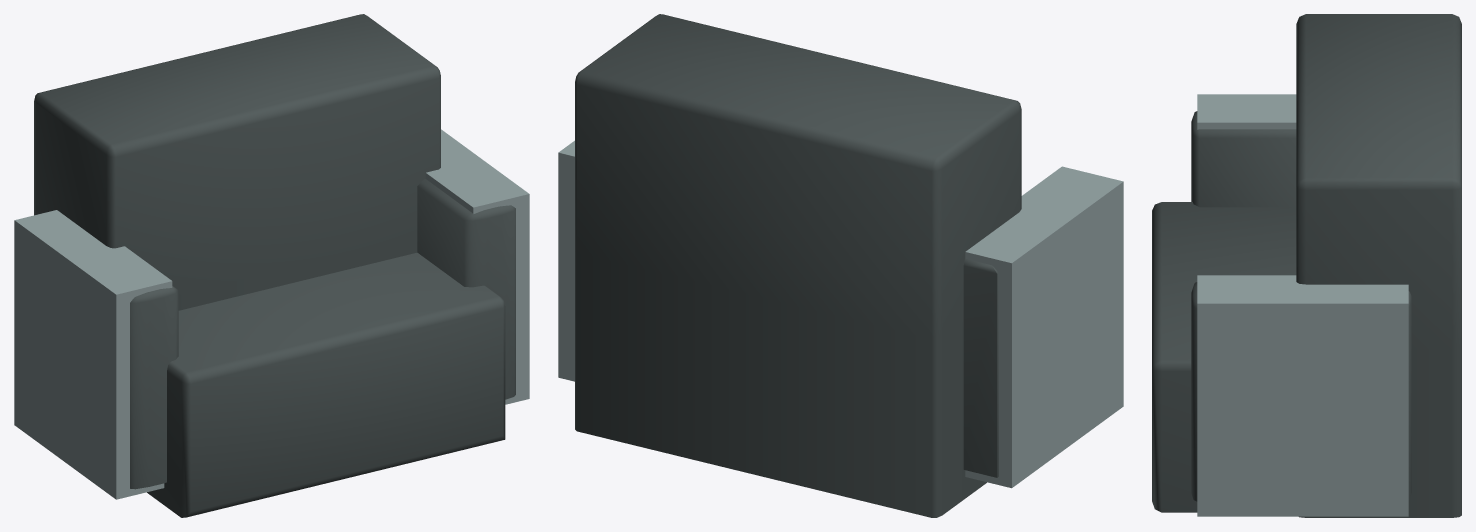
The model's file is Armchair-1.fbx.
The picture shows the model from 3 angles, left to right: view 1: azimuth 30°, elevation 25°; view 2: azimuth 150°, elevation 25°; view 3: azimuth 270°, elevation 25°; orthographic projection. The views are drawn at different scales.
Parts seen in each view (by area): view 1: Armchair-1; view 2: Armchair-1; view 3: Armchair-1.
Boxes of the visible parts, x1=… form: Armchair-1: x1=14, y1=14, x2=529, y2=517; Armchair-1: x1=558, y1=14, x2=1123, y2=517; Armchair-1: x1=1152, y1=14, x2=1461, y2=517.
Bounding box in the file's own units: 1.81 × 1.36 × 1.13.
